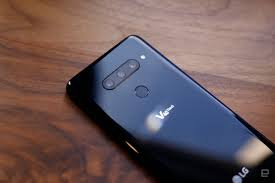lg: (62, 31, 275, 183)
